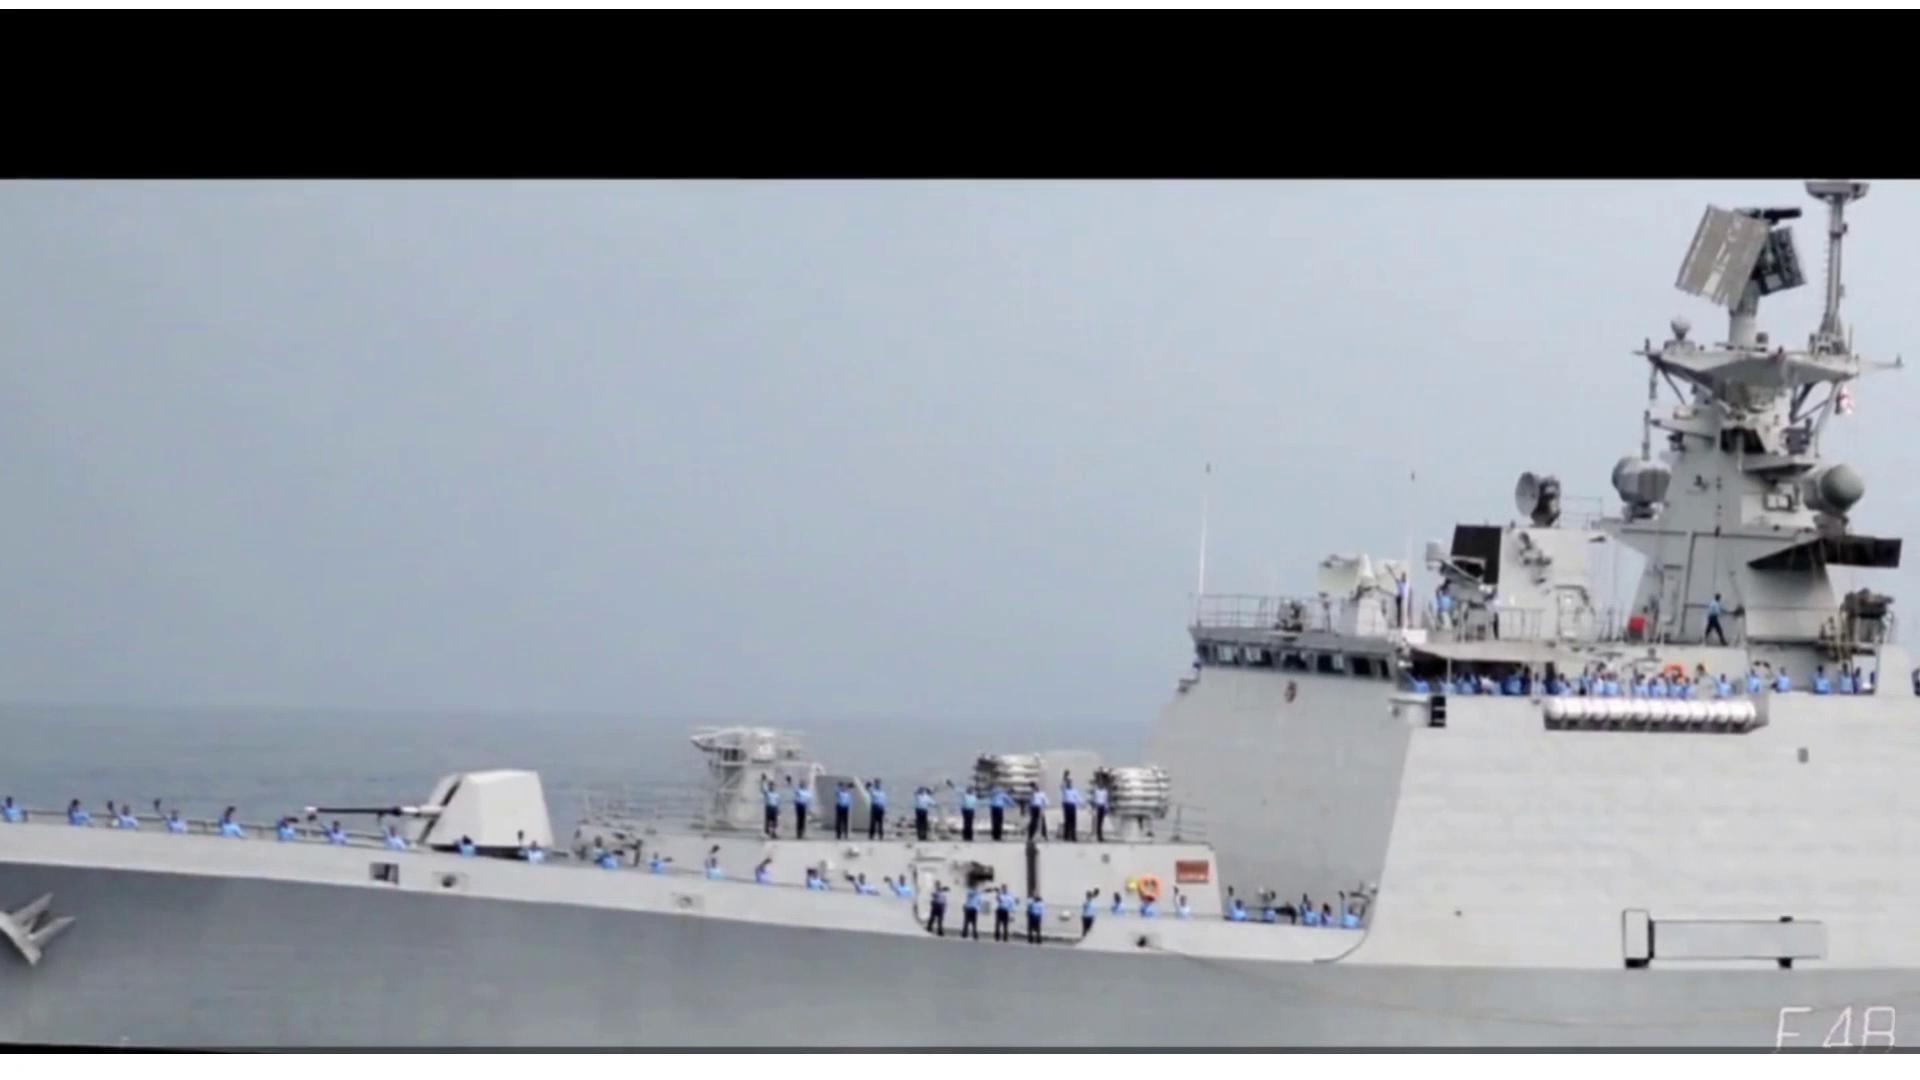OCR: (1760, 989, 1895, 1051)
